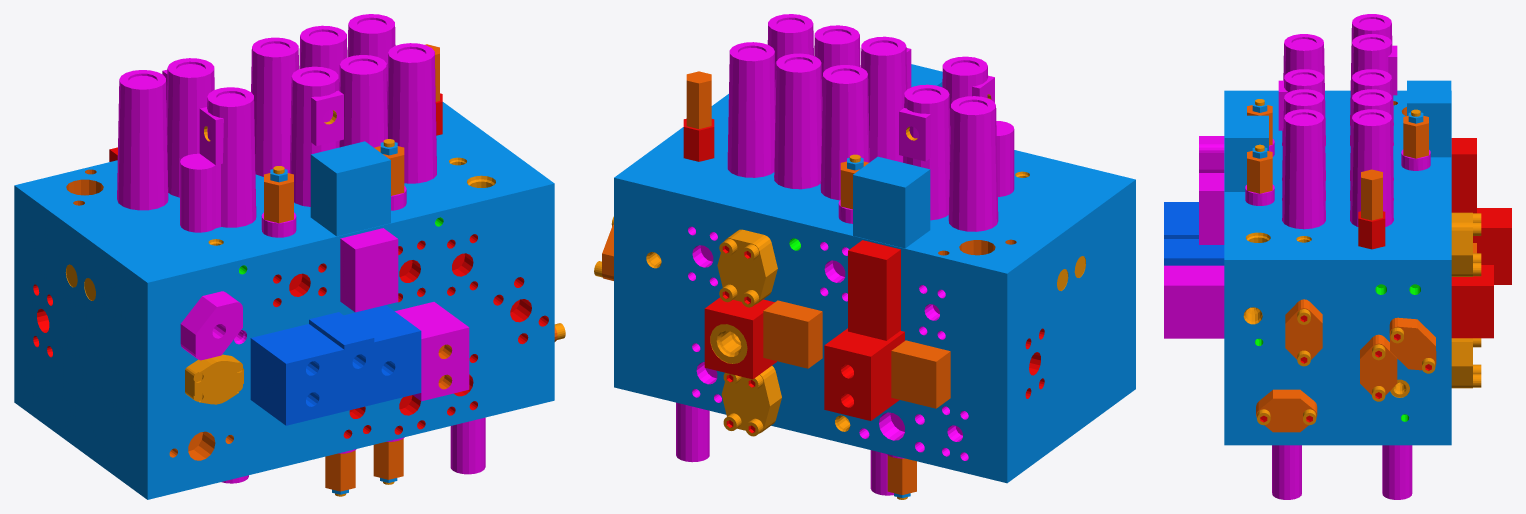
Rendered from control_valve_.glb.
3 renders of one model, left to right at view 1: azimuth 30°, elevation 25°; view 2: azimuth 150°, elevation 25°; view 3: azimuth 270°, elevation 25°, orthographic. The views are drawn at different scales.
Visible parts, largest first — view 1: YA00000734_001/4625137_022 [4625137_022]/dum1033545_010 [dum (×4), YA00000734_001/4625137_022 [4625137_022]/dum1110515_003 [dum, YA00000734_001/4625137_022 [4625137_022]/dum1075004_001 [dum, YA00000734_001/4625137_022 [4625137_022]/dum1012543_001 [dum, YA00000734_001/4625137_022 [4625137_022]/dum1075003_001 [dum, YA00000734_001/4625137_022 [4625137_022]/dum1075006_001 [dum, YA00000734_001/4625137_022 [4625137_022]/dum1075000_001 [dum, YA00000734_001/4625137_022 [4625137_022]/dum1012541_001 [dum, YA00000734_001/4625137_022 [4625137_022]/dum1012549_001 [dum (×4), YA00000734_001/4625137_022 [4625137_022]/dum1075005_001 [dum, YA00000734_001/4625137_022 [4625137_022]/dum1012551_003 [dum, YA00000734_001/4625137_022 [4625137_022]/dum1075002_001 [dum (+8 smaller); view 2: YA00000734_001/4625137_022 [4625137_022]/dum1033545_010 [dum (×3), YA00000734_001/4625137_022 [4625137_022]/dum1012529_003 [dum, YA00000734_001/4625137_022 [4625137_022]/dum1012543_001 [dum, YA00000734_001/4625137_022 [4625137_022]/dum1075004_001 [dum, YA00000734_001/4625137_022 [4625137_022]/dum1075008_001 [dum, YA00000734_001/4625137_022 [4625137_022]/dum1075007_001 [dum, YA00000734_001/4625137_022 [4625137_022]/dum1012530_003 [dum, YA00000734_001/4625137_022 [4625137_022]/dum1075006_001 [dum, YA00000734_001/4625137_022 [4625137_022]/dum1033544_001 [dum (×2), YA00000734_001/4625137_022 [4625137_022]/dum1012542_001 [dum, YA00000734_001/4625137_022 [4625137_022]/dum1051045_002 [dum (×2), YA00000734_001/4625137_022 [4625137_022]/dum1075001_001 [dum (+10 smaller); view 3: YA00000734_001/4625137_022 [4625137_022]/dum1033545_010 [dum (×2), YA00000734_001/4625137_022 [4625137_022]/dum1012555_002 [dum (×3), YA00000734_001/4625137_022 [4625137_022]/dum1012543_001 [dum, YA00000734_001/4625137_022 [4625137_022]/dum1075003_001 [dum, YA00000734_001/4625137_022 [4625137_022]/dum1012551_003 [dum, YA00000734_001/4625137_022 [4625137_022]/dum1075008_001 [dum, YA00000734_001/4625137_022 [4625137_022]/dum1051045_002 [dum, YA00000734_001/4625137_022 [4625137_022]/dum1012549_001 [dum (×4), YA00000734_001/4625137_022 [4625137_022]/dum1110515_003 [dum, YA00000734_001/4625137_022 [4625137_022]/dum1033544_001 [dum (×2), YA00000734_001/4625137_022 [4625137_022]/dum1012530_003 [dum, YA00000734_001/4625137_022 [4625137_022]/dum1012542_001 [dum (+13 smaller).
Part boxes in pixels (bbox=[...]): YA00000734_001/4625137_022 [4625137_022]/dum1033545_010 [dum (×4): bbox=[14, 102, 554, 499]; YA00000734_001/4625137_022 [4625137_022]/dum1110515_003 [dum: bbox=[250, 305, 421, 425]; YA00000734_001/4625137_022 [4625137_022]/dum1075004_001 [dum: bbox=[117, 70, 168, 210]; YA00000734_001/4625137_022 [4625137_022]/dum1012543_001 [dum: bbox=[310, 141, 390, 236]; YA00000734_001/4625137_022 [4625137_022]/dum1075003_001 [dum: bbox=[387, 43, 436, 183]; YA00000734_001/4625137_022 [4625137_022]/dum1075006_001 [dum: bbox=[251, 37, 298, 176]; YA00000734_001/4625137_022 [4625137_022]/dum1075000_001 [dum: bbox=[207, 87, 256, 227]; YA00000734_001/4625137_022 [4625137_022]/dum1012541_001 [dum: bbox=[340, 228, 398, 312]; YA00000734_001/4625137_022 [4625137_022]/dum1012549_001 [dum (×4): bbox=[264, 146, 404, 491]; YA00000734_001/4625137_022 [4625137_022]/dum1075005_001 [dum: bbox=[166, 58, 214, 197]; YA00000734_001/4625137_022 [4625137_022]/dum1012551_003 [dum: bbox=[395, 302, 469, 401]; YA00000734_001/4625137_022 [4625137_022]/dum1075002_001 [dum: bbox=[339, 55, 387, 147]; YA00000734_001/4625137_022 [4625137_022]/dum1033545_010 [dum (×3): bbox=[614, 94, 1135, 483]; YA00000734_001/4625137_022 [4625137_022]/dum1012529_003 [dum: bbox=[763, 300, 950, 408]; YA00000734_001/4625137_022 [4625137_022]/dum1012543_001 [dum: bbox=[853, 64, 942, 248]; YA00000734_001/4625137_022 [4625137_022]/dum1075004_001 [dum: bbox=[948, 96, 998, 231]; YA00000734_001/4625137_022 [4625137_022]/dum1075008_001 [dum: bbox=[727, 42, 775, 177]; YA00000734_001/4625137_022 [4625137_022]/dum1075007_001 [dum: bbox=[774, 53, 822, 189]; YA00000734_001/4625137_022 [4625137_022]/dum1012530_003 [dum: bbox=[824, 328, 904, 420]; YA00000734_001/4625137_022 [4625137_022]/dum1075006_001 [dum: bbox=[820, 65, 869, 200]; YA00000734_001/4625137_022 [4625137_022]/dum1033544_001 [dum (×2): bbox=[717, 229, 781, 433]; YA00000734_001/4625137_022 [4625137_022]/dum1012542_001 [dum: bbox=[848, 240, 900, 340]; YA00000734_001/4625137_022 [4625137_022]/dum1051045_002 [dum (×2): bbox=[704, 297, 776, 379]; YA00000734_001/4625137_022 [4625137_022]/dum1075001_001 [dum: bbox=[861, 36, 907, 162]; YA00000734_001/4625137_022 [4625137_022]/dum1033545_010 [dum (×2): bbox=[1224, 90, 1451, 445]; YA00000734_001/4625137_022 [4625137_022]/dum1012555_002 [dum (×3): bbox=[1256, 299, 1436, 432]; YA00000734_001/4625137_022 [4625137_022]/dum1012543_001 [dum: bbox=[1224, 80, 1451, 191]; YA00000734_001/4625137_022 [4625137_022]/dum1075003_001 [dum: bbox=[1282, 109, 1325, 229]; YA00000734_001/4625137_022 [4625137_022]/dum1012551_003 [dum: bbox=[1164, 265, 1224, 338]; YA00000734_001/4625137_022 [4625137_022]/dum1075008_001 [dum: bbox=[1350, 109, 1393, 226]; YA00000734_001/4625137_022 [4625137_022]/dum1051045_002 [dum: bbox=[1451, 265, 1493, 338]; YA00000734_001/4625137_022 [4625137_022]/dum1012549_001 [dum (×4): bbox=[1245, 115, 1430, 205]; YA00000734_001/4625137_022 [4625137_022]/dum1110515_003 [dum: bbox=[1164, 202, 1224, 265]; YA00000734_001/4625137_022 [4625137_022]/dum1033544_001 [dum (×2): bbox=[1451, 212, 1472, 388]; YA00000734_001/4625137_022 [4625137_022]/dum1012530_003 [dum: bbox=[1473, 208, 1511, 284]; YA00000734_001/4625137_022 [4625137_022]/dum1012542_001 [dum: bbox=[1451, 138, 1476, 213].
Size of the model in its own units: 0.508 by 0.464 by 0.41.
